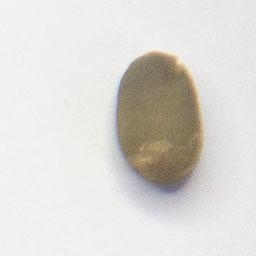peaberry: (112, 46, 206, 189)
